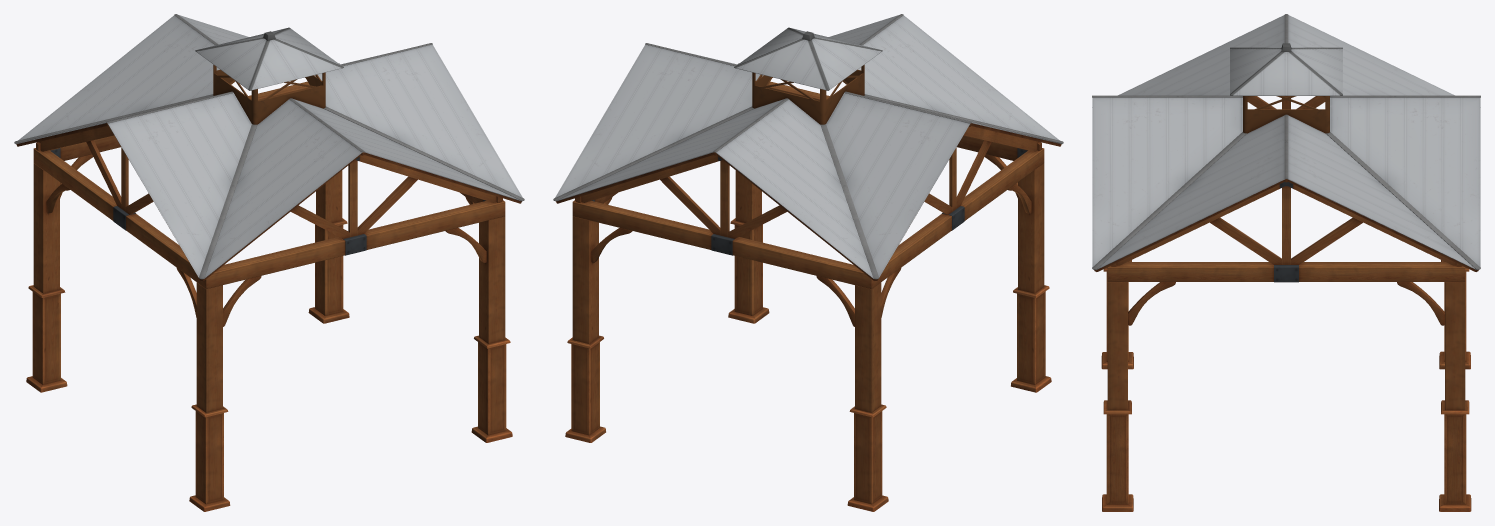
File: GardenGazebo02.FBX
3 renders of one model, left to right at view 1: azimuth 30°, elevation 25°; view 2: azimuth 150°, elevation 25°; view 3: azimuth 270°, elevation 25°, orthographic. The views are drawn at different scales.
Parts seen in each view (by area): view 1: GardenGazebo02; view 2: GardenGazebo02; view 3: GardenGazebo02.
Boxes of the visible parts, x1,y1,x2,y2 form: GardenGazebo02: (14,14,524,511); GardenGazebo02: (553,14,1063,511); GardenGazebo02: (1092,14,1480,511).
Size of what is drawn, in the model's own units: 4.03 by 4.45 by 4.03.
